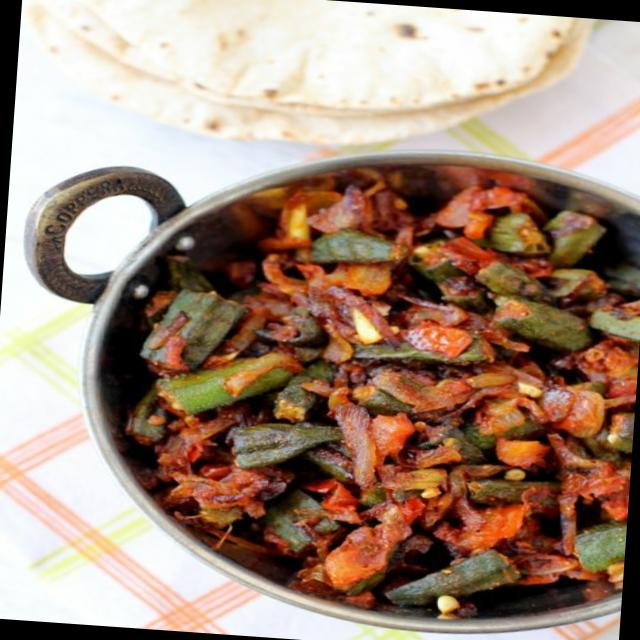BhindiMasala: (114, 148, 640, 631)
